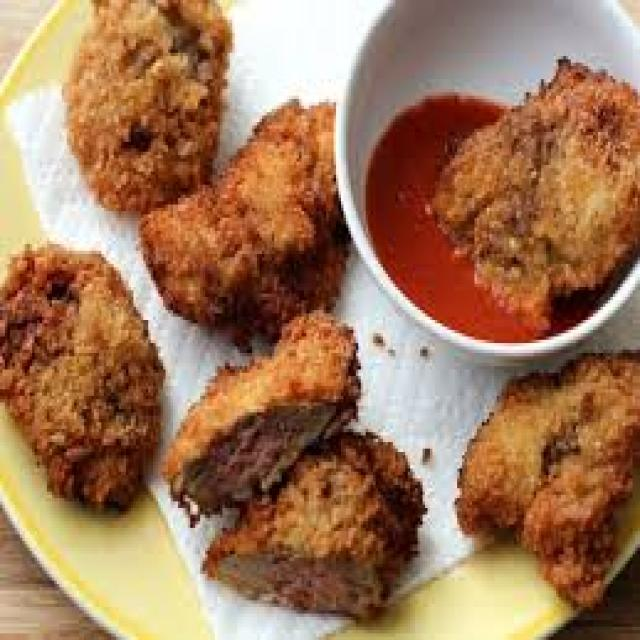Frango: (10, 0, 427, 640), (459, 39, 640, 603)
